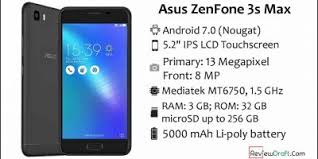asus: (56, 3, 133, 158)
